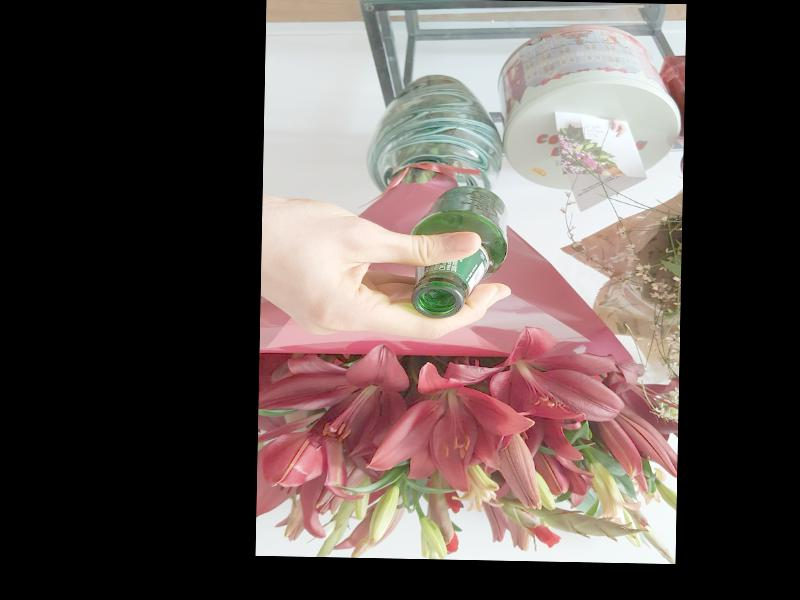Beer: (408, 185, 508, 319)
